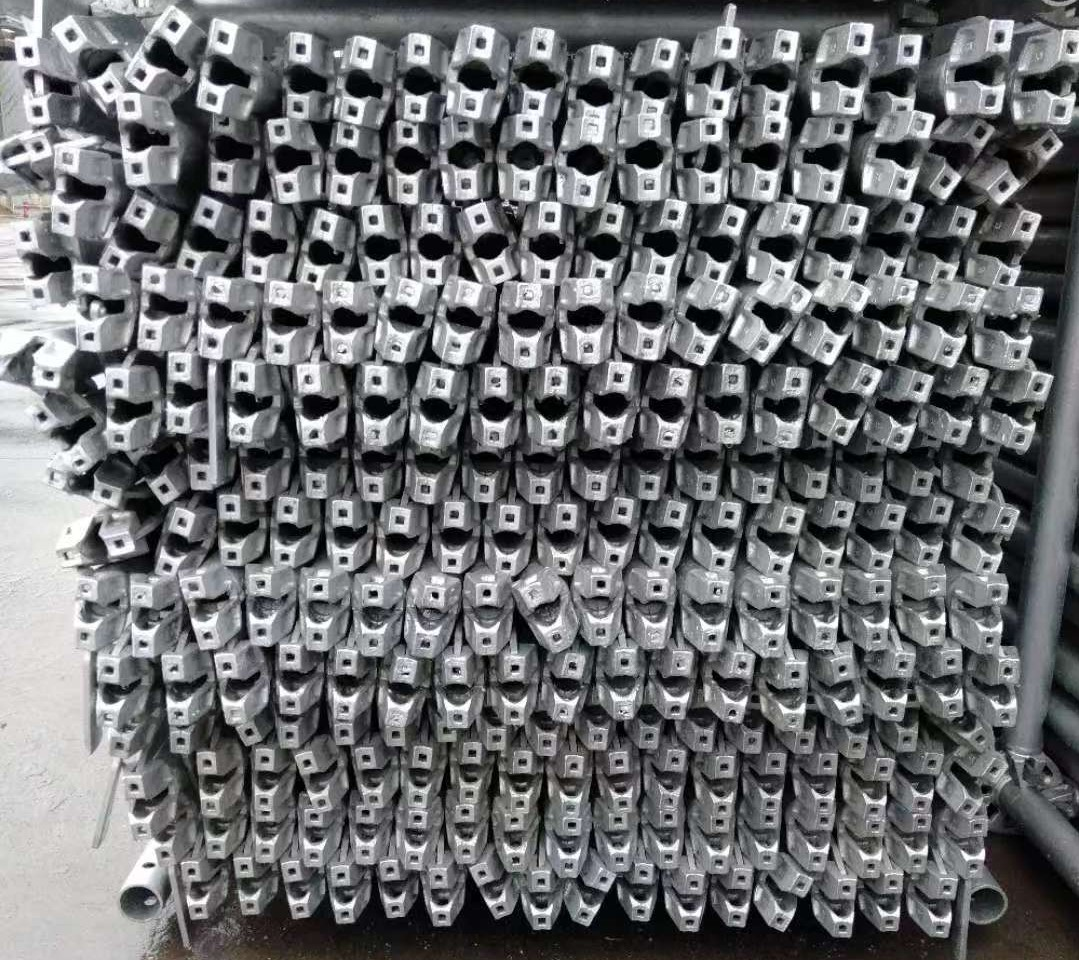THsquare_steel: (970, 130, 1063, 206), (51, 12, 125, 103), (739, 279, 814, 365), (194, 18, 256, 121), (929, 113, 994, 208), (791, 286, 869, 365), (122, 7, 196, 90), (328, 34, 392, 127), (109, 95, 175, 185), (95, 196, 171, 274), (949, 18, 1010, 114), (254, 120, 324, 203), (817, 361, 883, 447), (27, 399, 97, 479), (42, 149, 106, 236), (610, 274, 673, 362), (873, 114, 936, 200), (170, 203, 242, 278), (872, 370, 936, 454), (456, 200, 519, 285), (431, 284, 496, 364), (813, 24, 872, 112), (274, 35, 335, 120), (449, 22, 501, 121), (669, 284, 732, 365), (170, 571, 232, 652), (60, 267, 117, 354), (511, 27, 565, 118), (318, 121, 375, 207), (50, 522, 146, 573), (927, 365, 987, 446), (988, 287, 1044, 373), (551, 281, 609, 364), (799, 116, 852, 206), (100, 361, 152, 452), (633, 202, 692, 282), (994, 372, 1053, 452), (434, 118, 490, 202), (675, 119, 731, 203), (390, 37, 444, 124), (377, 118, 431, 205), (626, 37, 686, 115), (398, 205, 455, 286), (377, 282, 434, 363), (560, 120, 613, 207), (621, 119, 677, 201), (874, 32, 929, 115), (497, 286, 553, 367), (692, 201, 747, 283), (1030, 32, 1079, 124), (397, 580, 454, 659), (236, 201, 290, 284), (745, 26, 797, 112), (924, 283, 976, 369), (872, 203, 927, 284), (738, 116, 789, 202), (133, 266, 184, 352), (1, 332, 74, 392), (986, 207, 1040, 288), (569, 44, 625, 122), (499, 115, 549, 201), (254, 283, 305, 367), (518, 579, 575, 654), (408, 366, 460, 448), (577, 206, 632, 283), (812, 209, 870, 282), (352, 203, 403, 286), (11, 222, 61, 306), (288, 365, 338, 448), (346, 576, 396, 658), (196, 276, 244, 361), (756, 204, 808, 282), (319, 279, 367, 363), (941, 753, 1004, 817), (295, 210, 348, 286), (963, 501, 1020, 571), (522, 208, 573, 286), (472, 364, 518, 450), (150, 503, 201, 580), (205, 116, 255, 194), (480, 501, 530, 579), (459, 577, 509, 654), (868, 283, 916, 363), (761, 368, 808, 449), (625, 576, 676, 650), (767, 655, 816, 732), (525, 368, 572, 448), (322, 493, 370, 571), (353, 364, 396, 451), (649, 366, 693, 451), (376, 502, 425, 578), (744, 507, 801, 572), (589, 363, 634, 445), (805, 498, 856, 570), (40, 469, 125, 512), (148, 655, 200, 725), (575, 569, 621, 648), (842, 574, 891, 648), (539, 652, 590, 723), (220, 364, 265, 444), (851, 503, 903, 572), (208, 649, 255, 725), (123, 578, 167, 659), (686, 574, 732, 651), (744, 579, 791, 654), (235, 573, 285, 643), (432, 655, 481, 726), (125, 446, 186, 503), (975, 651, 1020, 728), (535, 500, 581, 575), (960, 577, 1006, 652), (706, 364, 748, 446), (819, 654, 866, 727), (287, 748, 343, 809), (429, 504, 477, 575), (588, 497, 636, 568), (691, 498, 739, 569), (296, 578, 342, 652), (930, 208, 972, 286), (213, 497, 259, 568), (644, 498, 690, 568), (394, 807, 445, 870), (872, 650, 914, 726), (159, 356, 199, 435), (797, 581, 844, 648), (68, 580, 111, 652), (379, 654, 422, 726), (908, 574, 950, 647), (925, 654, 970, 722), (237, 446, 291, 502), (440, 806, 492, 863), (448, 741, 492, 808), (491, 658, 533, 728), (566, 871, 618, 927), (347, 745, 391, 811), (398, 743, 444, 806), (268, 495, 307, 569), (599, 805, 642, 872), (943, 448, 995, 503), (517, 449, 568, 505), (717, 655, 759, 723), (835, 449, 885, 506), (741, 807, 790, 865), (600, 647, 640, 718), (949, 813, 992, 879), (328, 648, 366, 722), (854, 753, 900, 814), (694, 813, 740, 874), (812, 876, 858, 937), (907, 500, 948, 568), (766, 873, 814, 931), (549, 817, 596, 876), (118, 773, 160, 839), (94, 659, 133, 730), (498, 751, 544, 811), (727, 454, 779, 507), (568, 451, 623, 501), (798, 752, 846, 809), (599, 750, 645, 808), (674, 450, 725, 502), (625, 448, 675, 501), (660, 648, 696, 721), (650, 809, 693, 870), (698, 755, 743, 813), (549, 755, 591, 817), (294, 808, 337, 868), (275, 646, 312, 715), (784, 448, 833, 500), (667, 870, 707, 933), (403, 453, 452, 504), (498, 811, 538, 873), (297, 446, 343, 499), (797, 808, 838, 867), (645, 752, 688, 808), (193, 754, 230, 819), (900, 748, 939, 809), (847, 812, 886, 873), (248, 747, 286, 809), (889, 448, 937, 497), (349, 807, 391, 863), (356, 450, 401, 502), (749, 757, 794, 809), (468, 864, 511, 918), (900, 810, 936, 872), (327, 865, 363, 927), (716, 866, 754, 924), (865, 875, 903, 933), (420, 867, 455, 929), (178, 863, 214, 922), (279, 861, 315, 920), (622, 864, 659, 921), (522, 871, 557, 931), (250, 805, 283, 864), (377, 859, 408, 921), (234, 857, 266, 916), (924, 877, 955, 937), (187, 435, 218, 494), (199, 820, 240, 859)
THsquare_steel_blocked: (682, 27, 745, 117), (13, 37, 65, 126)
